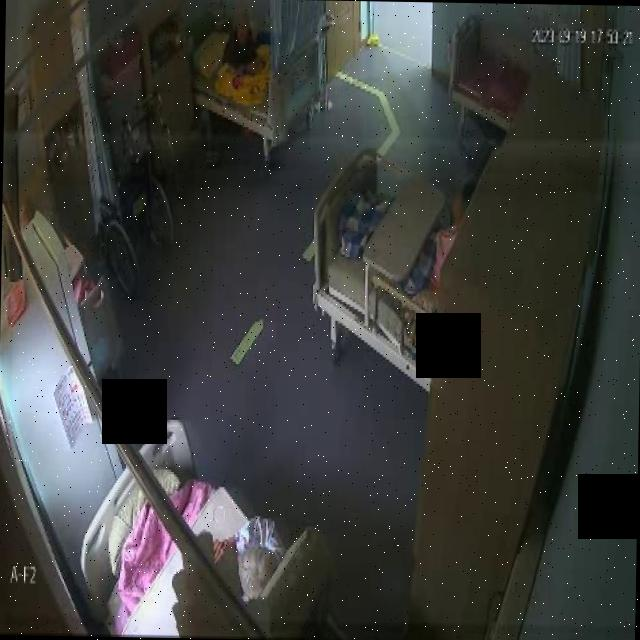bed: (78, 415, 326, 640), (313, 149, 461, 379), (192, 18, 324, 138), (448, 11, 532, 130)
